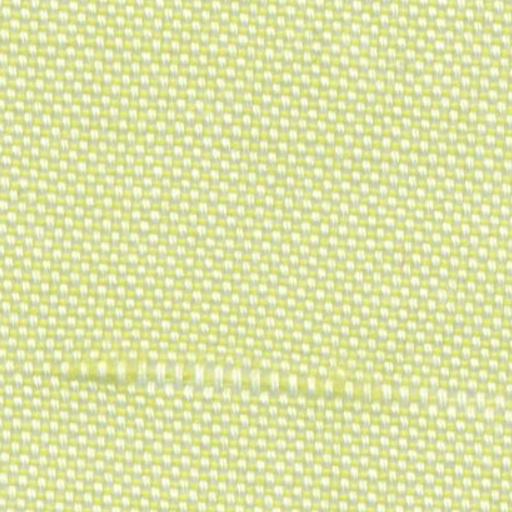DaiSha: (49, 338, 492, 422)
